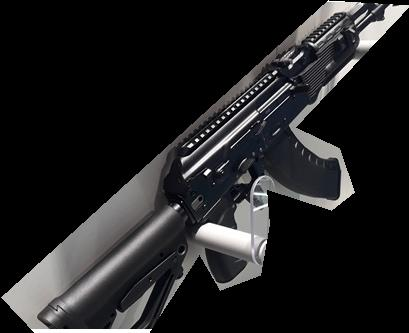gun: (1, 0, 409, 333)
